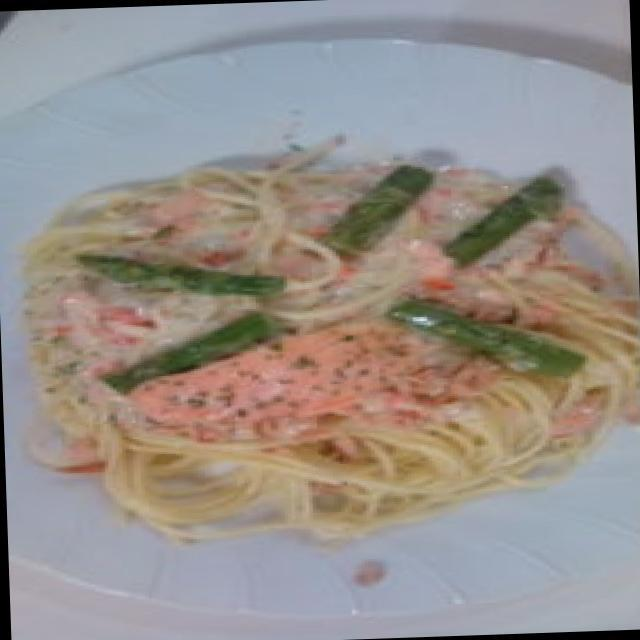Pasta: (9, 149, 640, 531)
